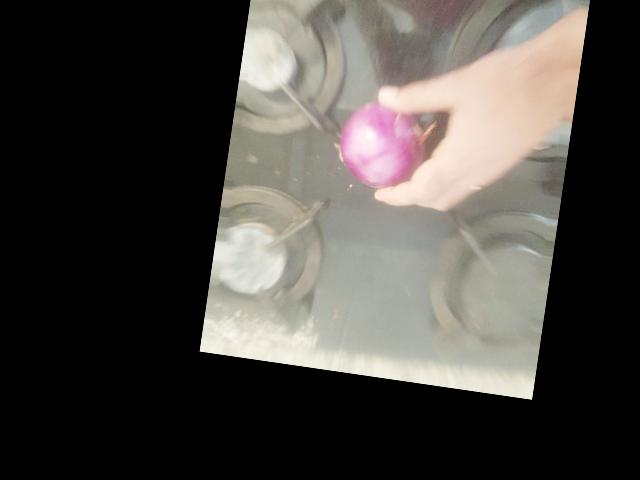onion: (272, 171, 370, 264)
